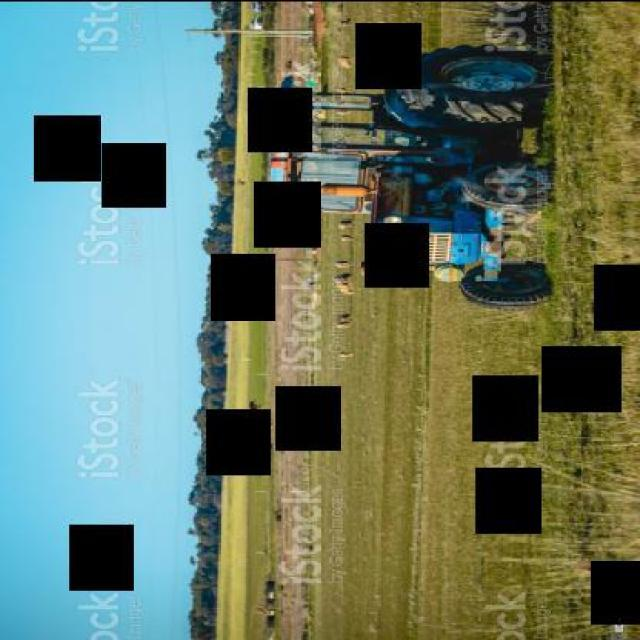Tratores - v5 YOLO V8L 2024-11-13: (224, 34, 638, 322)
